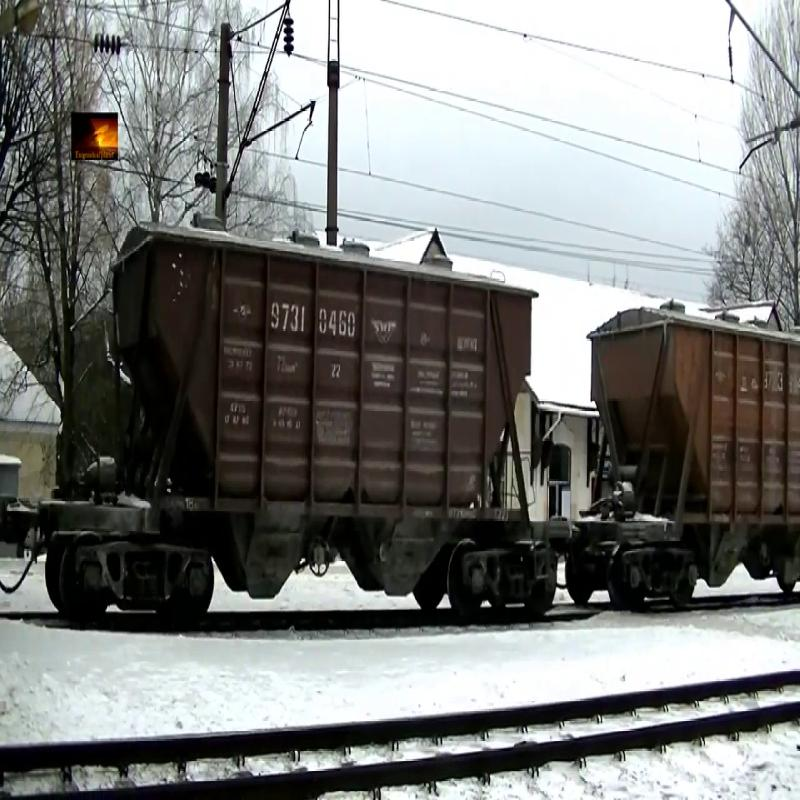train: (75, 213, 550, 628), (583, 296, 782, 643)
